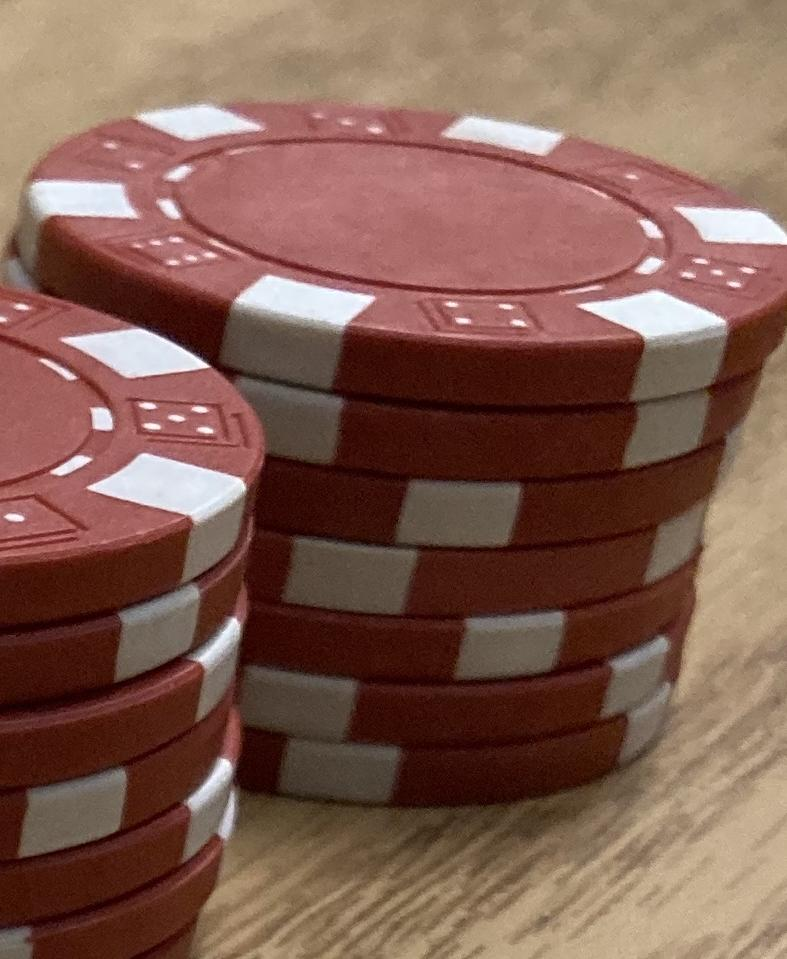Chip: (1, 1, 787, 959)
